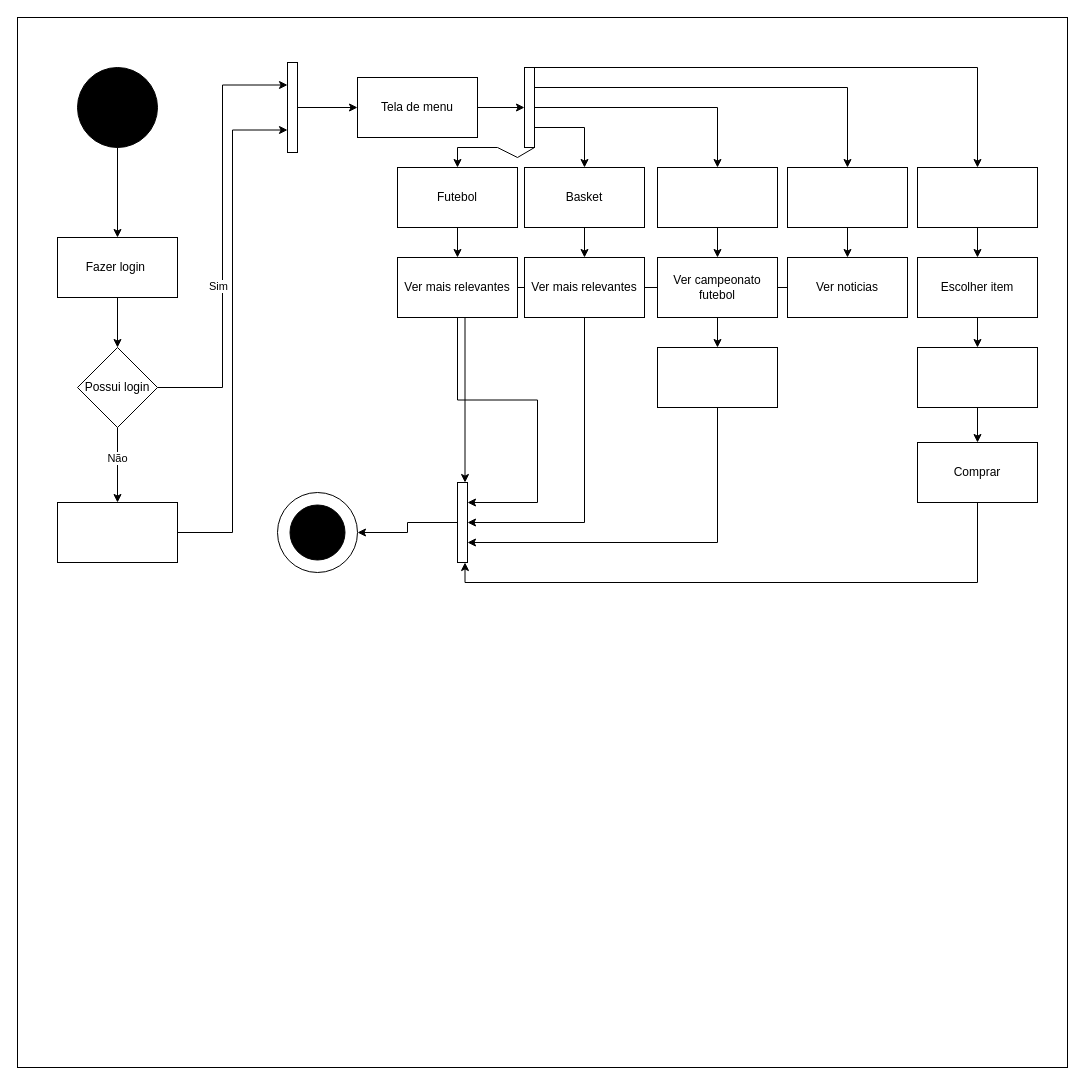
Some shapes in this 1085 by 1085 pixel diagram are drawn without their labels. The centre of each missing label's shape, as x and y in pixels:
Campeonatos/Jogos: point 717,197
Loja: point 977,197
Método de pagamento: point 977,377
Notícia: point 847,197
Tela de cadastro/Login: point 117,532
Ver campeonato basket: point 717,377
